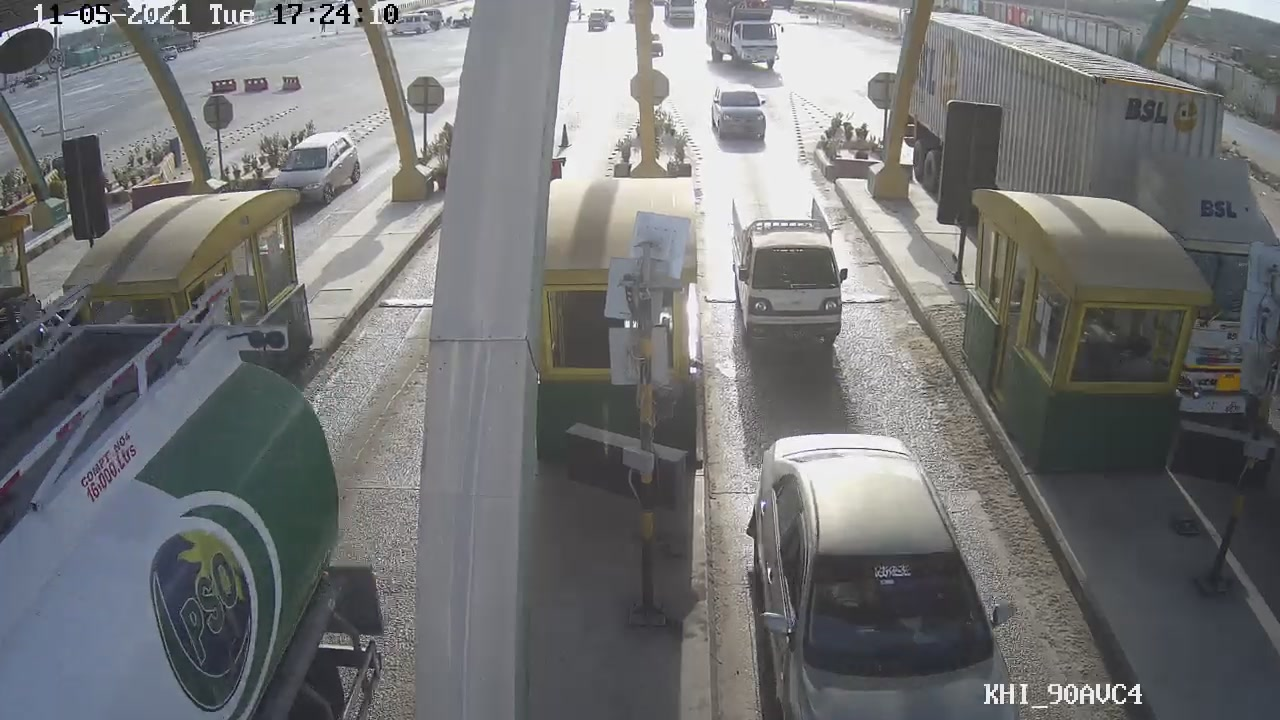F1: (722, 193, 860, 355)
